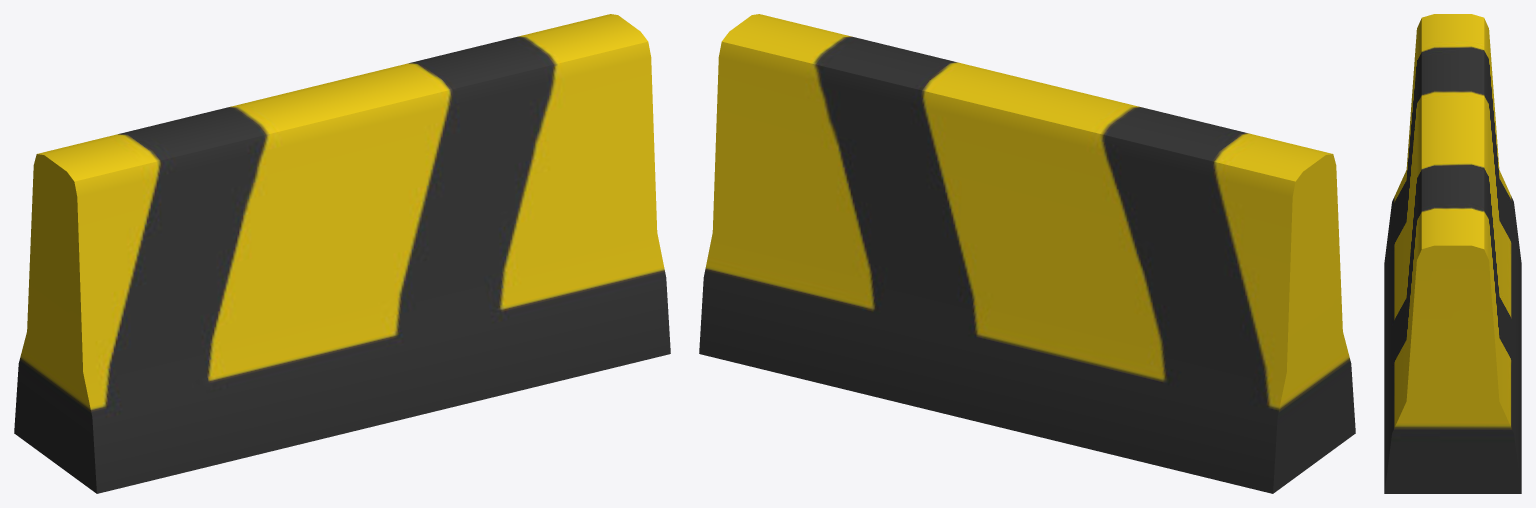
File: Bump.FBX
3 views of the same model, side by side, from view 1: azimuth 30°, elevation 25°; view 2: azimuth 150°, elevation 25°; view 3: azimuth 270°, elevation 25° (orthographic). The views are drawn at different scales.
Parts seen in each view (by area): view 1: Box001; view 2: Box001; view 3: Box001.
Part boxes in pixels (left/top/right/bottom): Box001: left=14, top=14, right=670, bottom=493; Box001: left=699, top=14, right=1355, bottom=493; Box001: left=1384, top=14, right=1521, bottom=493.
Size of the model in its own units: 20.01 by 10 by 5.
